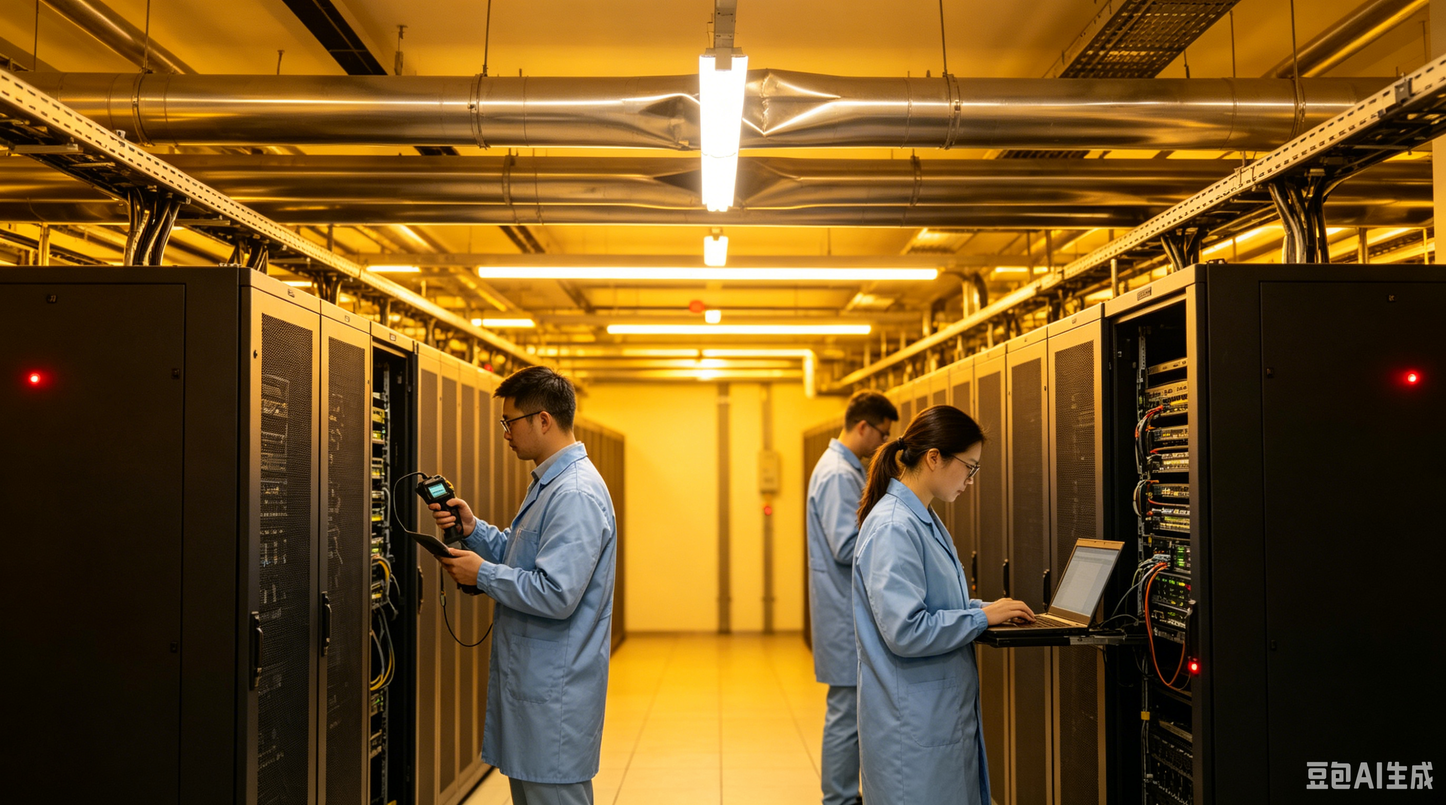Leakage: (627, 153, 841, 224), (747, 60, 862, 147), (637, 81, 699, 141)
